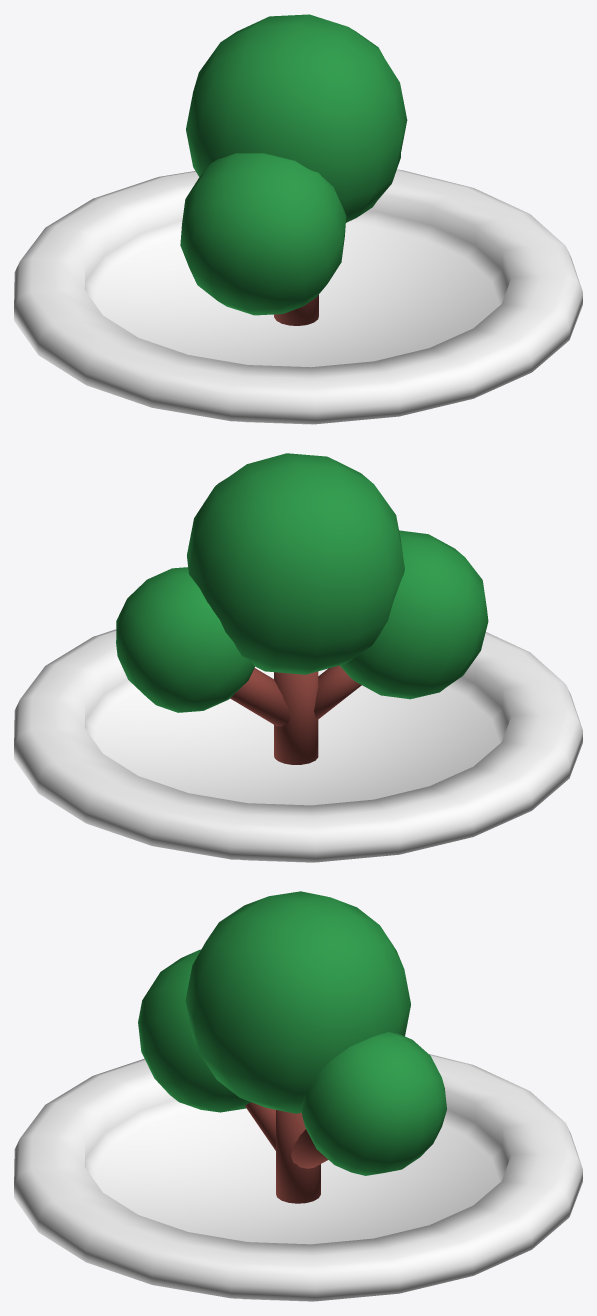
Rendered from Bush_w_Plate_Food.glb.
3 renders of one model, top to bottom at view 1: azimuth 30°, elevation 25°; view 2: azimuth 150°, elevation 25°; view 3: azimuth 270°, elevation 25°, orthographic.
Parts seen in each view (by area): view 1: Bush_w_Plate_Food; view 2: Bush_w_Plate_Food; view 3: Bush_w_Plate_Food.
Part boxes in pixels (bbox=[...]): Bush_w_Plate_Food: bbox=[14, 14, 582, 424]; Bush_w_Plate_Food: bbox=[14, 453, 582, 862]; Bush_w_Plate_Food: bbox=[14, 891, 582, 1301].
Bounding box in the file's own units: 0.1089 × 0.0662 × 0.1086.
Materials: 1 (1 with a texture image).
